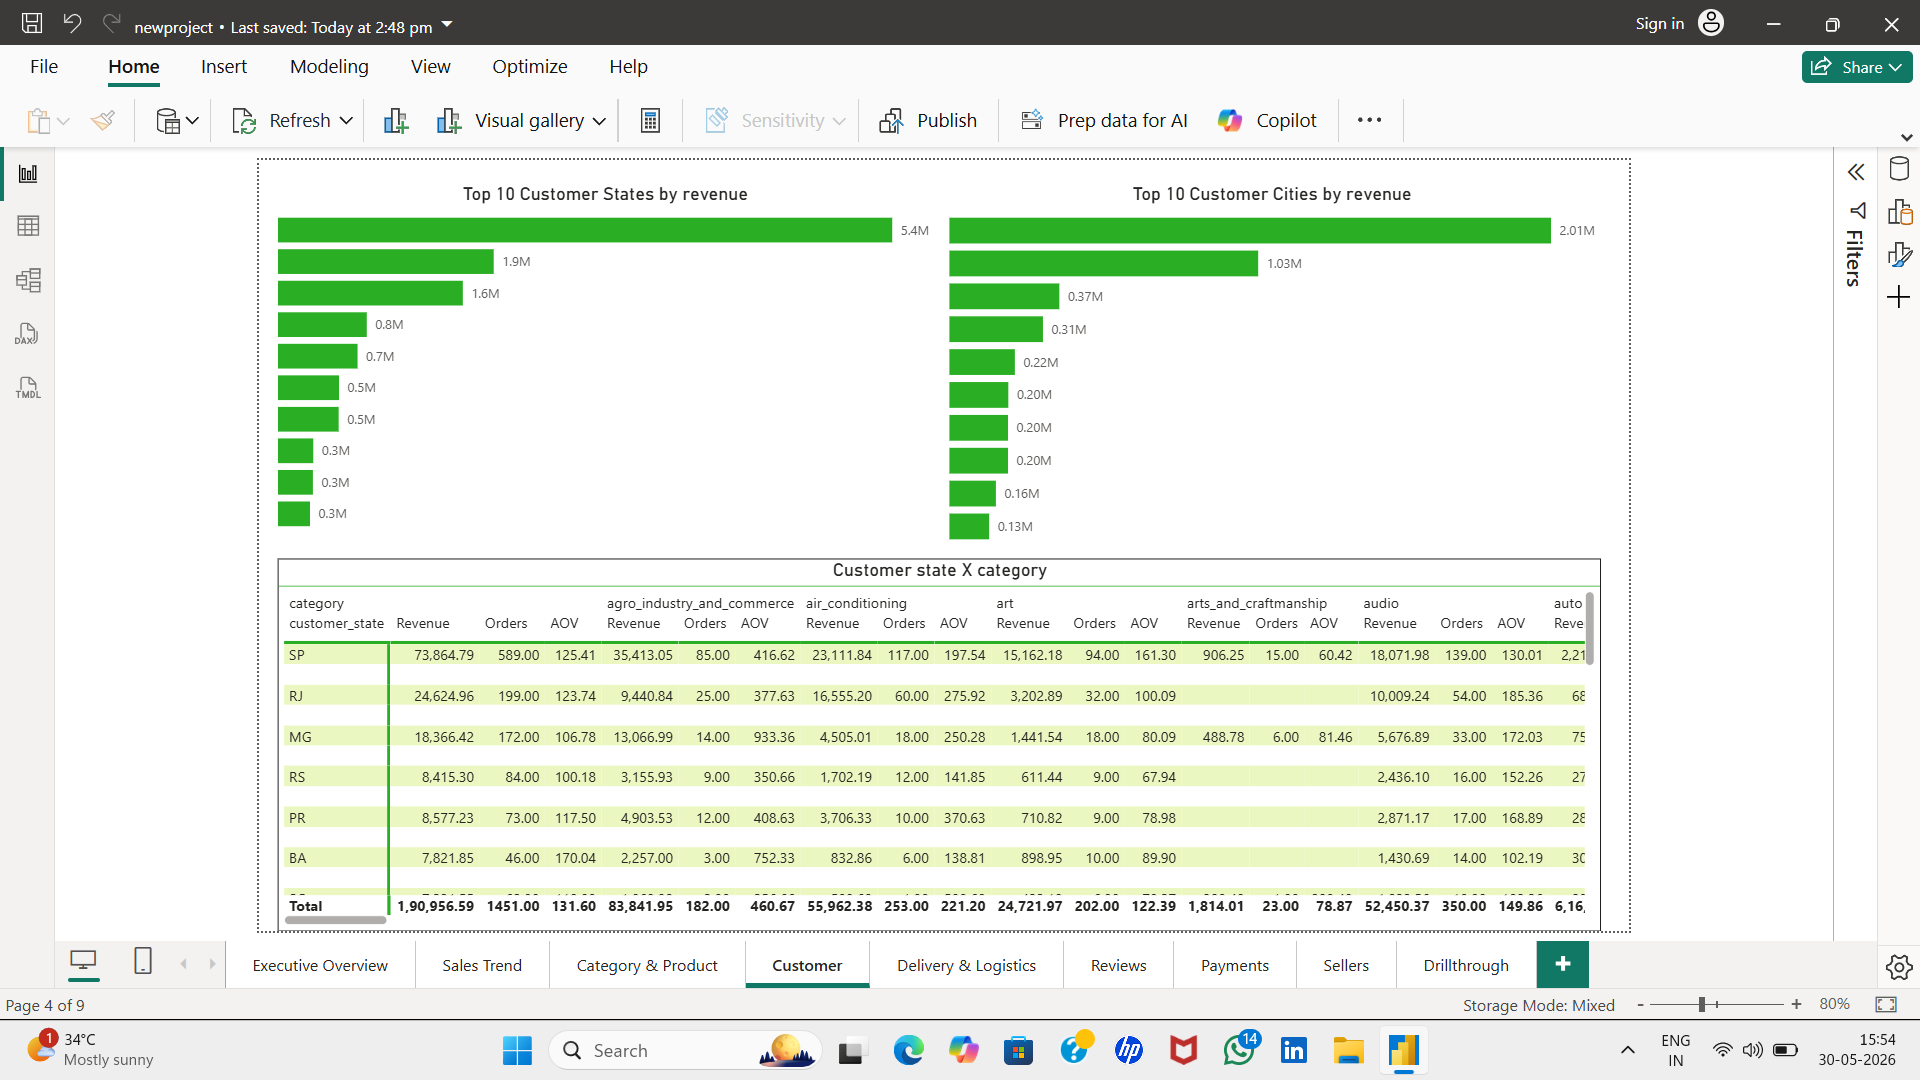

This screenshot's page, from the dashboard's own definition file:
{"tool":"powerbi","page":{"name":"Customer ","canvas":[1280,720],"ordinal":3},"visuals":[{"type":"barChart","title":"Top 10 Customer States by revenue","fields":{"Y":["public bi_fact_sales.Revenue"],"Category":["public bi_fact_sales.customer_state"]},"box":[12.3,21,622.7,326.2],"z":0},{"type":"pivotTable","title":"Customer state X category","fields":{"Values":["public bi_fact_sales.Revenue","public bi_fact_sales.Orders","public bi_fact_sales.AOV"],"Rows":["public bi_fact_sales.customer_state"],"Columns":["public bi_fact_sales.category"]},"box":[17.5,372.3,1236.7,348.1],"z":1000},{"type":"barChart","title":"Top 10 Customer Cities by revenue","fields":{"Y":["public bi_fact_sales.Revenue"],"Category":["public bi_fact_sales.customer_city"]},"box":[640.2,21,613.9,338.5],"z":2000}]}

Visuals, with their boxes on the page's 1280x720 design canvas (x1, y1, x2, y2). These are canvas units, not pixel positions in the 1920x1080 screenshot, which may show the page scaled, cropped or inside an application window:
"Top 10 Customer States by revenue" barChart: <bbox>12, 21, 635, 347</bbox>
"Customer state X category" pivotTable: <bbox>18, 372, 1254, 720</bbox>
"Top 10 Customer Cities by revenue" barChart: <bbox>640, 21, 1254, 360</bbox>
